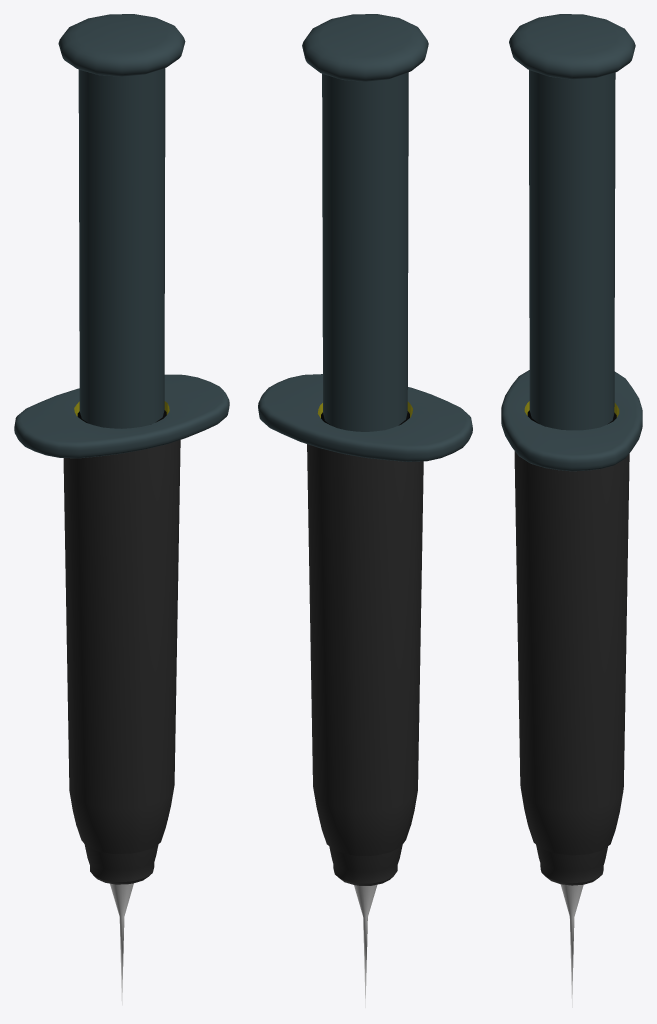
File: Jeringuilla.fbx
3 views of the same model, side by side, from view 1: azimuth 30°, elevation 25°; view 2: azimuth 150°, elevation 25°; view 3: azimuth 270°, elevation 25° (orthographic).
Visible parts, largest first — view 1: ExteriorJeringuilla001, EmboloJeringuilla001; view 2: ExteriorJeringuilla001, EmboloJeringuilla001; view 3: ExteriorJeringuilla001, EmboloJeringuilla001.
Boxes of the visible parts, box(x1,y1,x2,y2) form: ExteriorJeringuilla001: box(14, 374, 229, 1005); EmboloJeringuilla001: box(58, 14, 185, 428); ExteriorJeringuilla001: box(258, 374, 472, 1007); EmboloJeringuilla001: box(302, 14, 428, 431); ExteriorJeringuilla001: box(501, 370, 642, 1007); EmboloJeringuilla001: box(509, 14, 635, 430).
Size of the model in its own units: 0.4473 by 2.11 by 0.2775.
